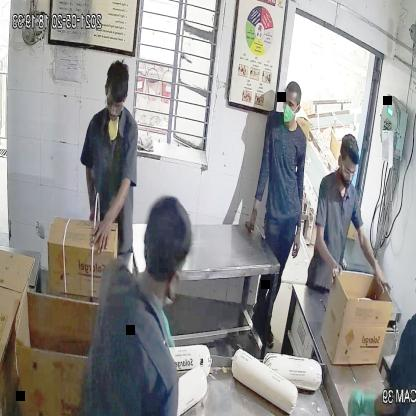goggles: (338, 162, 359, 180)
no_goggles: (280, 97, 302, 112)
